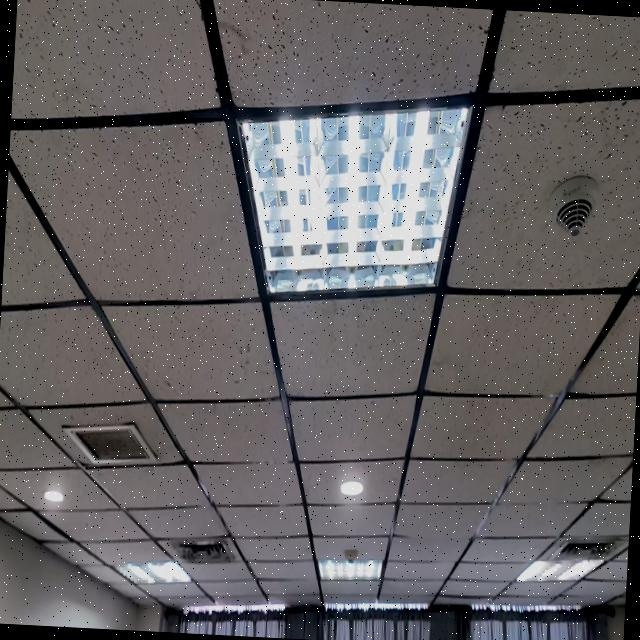Light: (237, 104, 469, 293), (516, 558, 602, 581), (118, 558, 190, 583), (318, 559, 381, 580), (339, 480, 362, 495), (43, 489, 63, 502)
